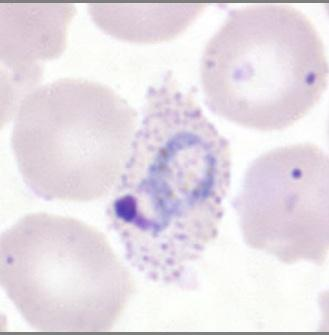Infected: (112, 71, 235, 285)
Uninfected: (201, 7, 329, 130), (0, 216, 131, 335), (12, 76, 128, 201), (235, 142, 329, 267)
